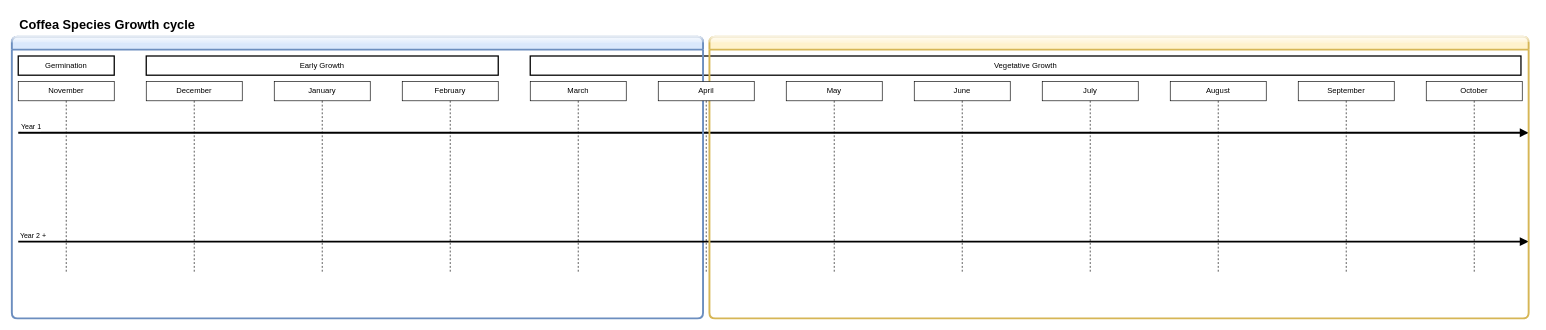
Some shapes in this 1546 by 330 pixel diagram are drawn without their labels. Here are the shapes that lost their labels. From the top down, the centre of each, then its label:
(x=357, y=177): Rainy season
(x=1118, y=177): Dry Season
